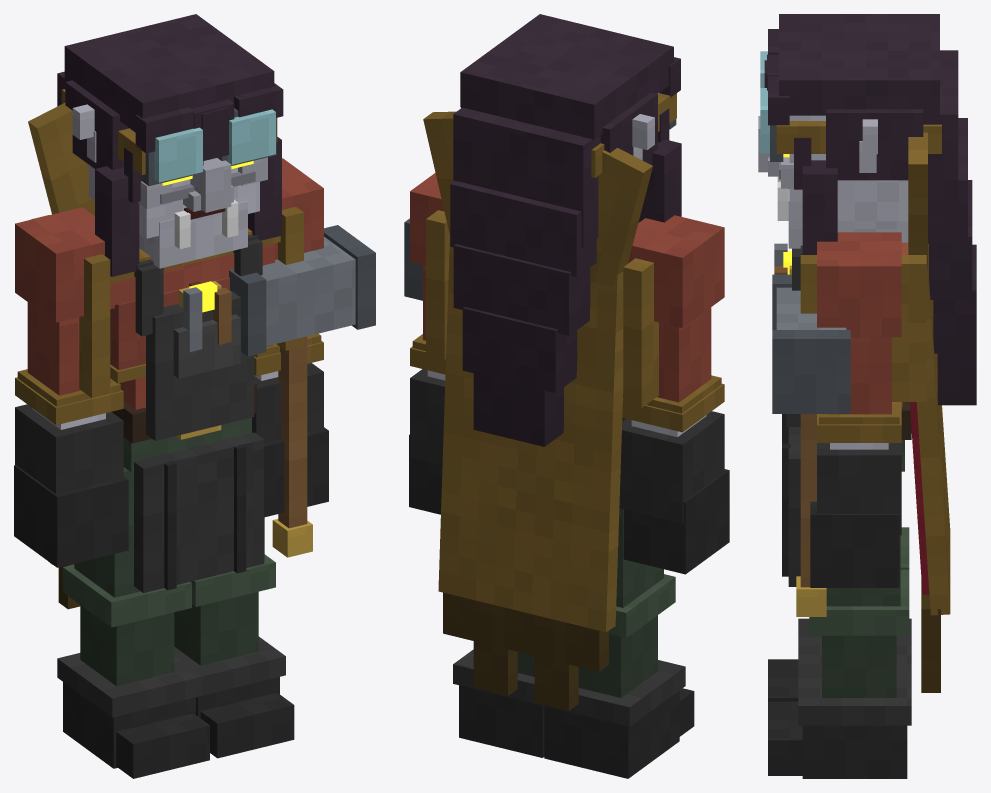
The model's file is vampire_forgeron_v3.glb.
3 renders of one model, left to right at view 1: azimuth 30°, elevation 25°; view 2: azimuth 150°, elevation 25°; view 3: azimuth 270°, elevation 25°, orthographic. The views are drawn at different scales.
Parts seen in each view (by area): view 1: Torso, Head, ArmR, LegR, HandL, LegL, ArmL; view 2: Torso, Head, ArmR, LegR, ArmL, LegL, HandL; view 3: Head, ArmL, LegL, Torso, HandL, LegR.
Boxes of the visible parts, x1=… form: Torso: x1=28, y1=103, x2=303, y2=609; Head: x1=57, y1=14, x2=283, y2=276; ArmR: x1=14, y1=207, x2=128, y2=567; LegR: x1=57, y1=467, x2=209, y2=778; HandL: x1=229, y1=225, x2=375, y2=557; LegL: x1=174, y1=517, x2=294, y2=758; ArmL: x1=252, y1=158, x2=328, y2=517; Torso: x1=423, y1=111, x2=658, y2=710; Head: x1=450, y1=14, x2=681, y2=446; ArmR: x1=619, y1=215, x2=729, y2=574; LegR: x1=538, y1=508, x2=694, y2=778; ArmL: x1=409, y1=173, x2=445, y2=514; LegL: x1=453, y1=649, x2=544, y2=757; HandL: x1=404, y1=218, x2=422, y2=300; Head: x1=758, y1=14, x2=976, y2=405; ArmL: x1=810, y1=232, x2=901, y2=587; LegL: x1=768, y1=535, x2=911, y2=778; Torso: x1=774, y1=132, x2=950, y2=692; HandL: x1=772, y1=274, x2=850, y2=616; LegR: x1=768, y1=527, x2=911, y2=701.
Size of the model in its own units: 0.8205 by 1.75 by 0.5025.
41 materials, 41 textured.
